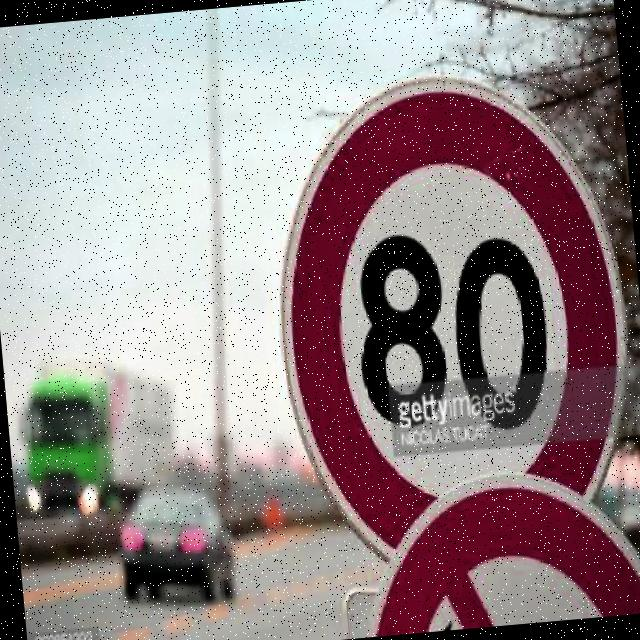Ograniczenie predkosci do 80: (310, 144, 606, 540)
